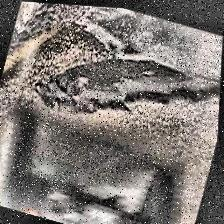pothole: (37, 18, 224, 158)
